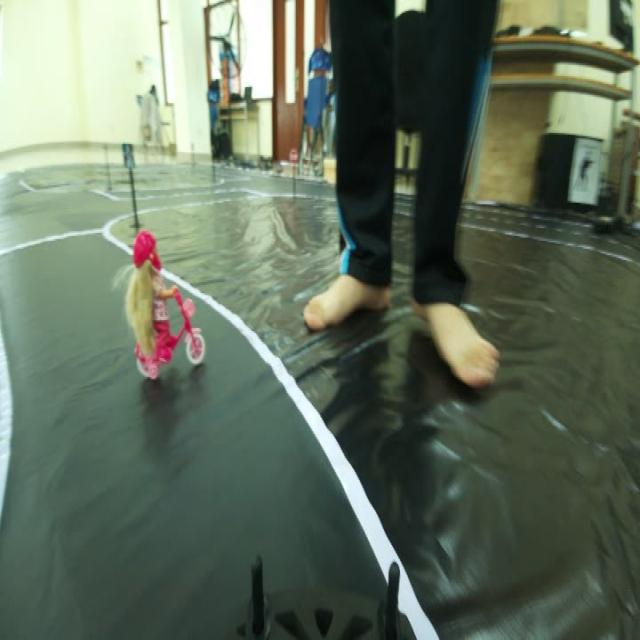pedestrian: (110, 227, 218, 377)
